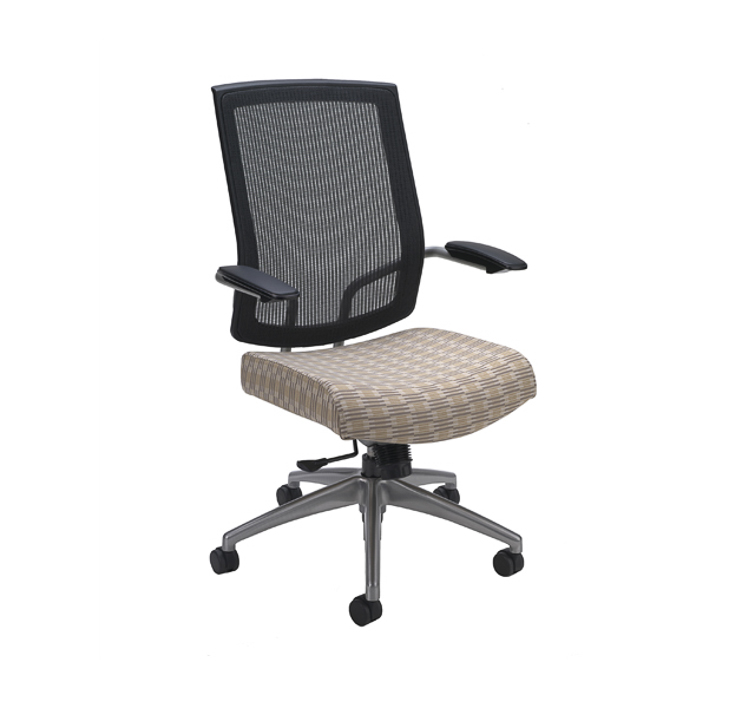chairs: (192, 71, 534, 631)
